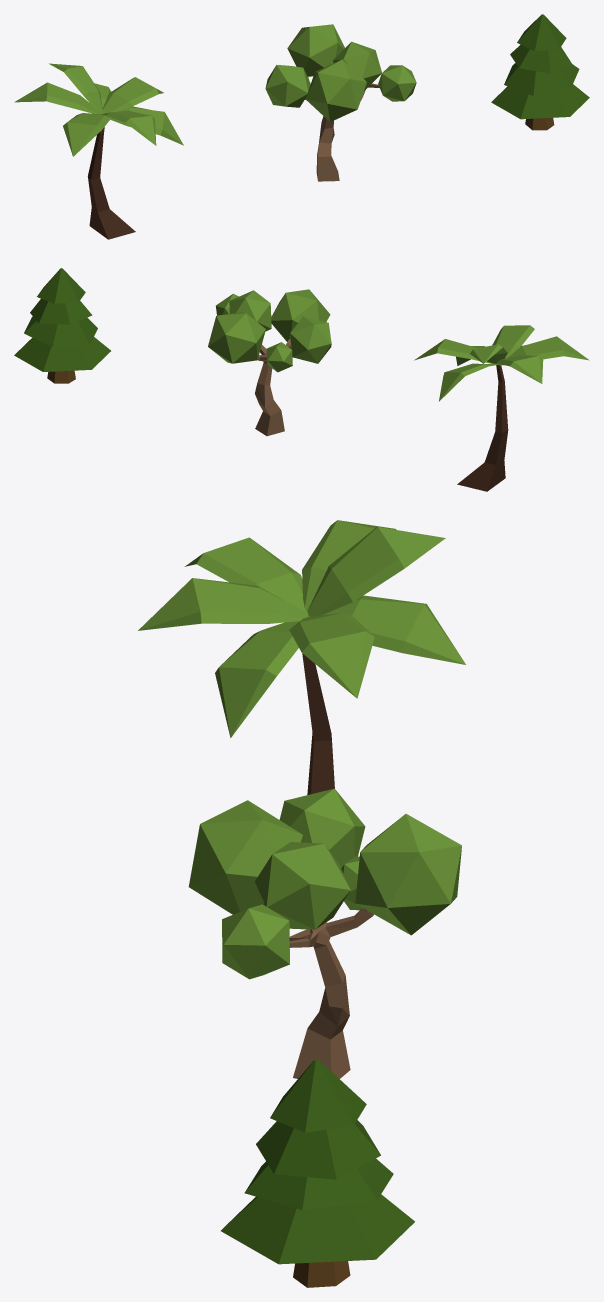
The model's file is tree.gltf.
3 renders of one model, top to bottom at view 1: azimuth 30°, elevation 25°; view 2: azimuth 150°, elevation 25°; view 3: azimuth 270°, elevation 25°, orthographic. The views are drawn at different scales.
Visible parts, largest first — view 1: tree_1, tree_3, tree_2; view 2: tree_1, tree_3, tree_2; view 3: tree_1, tree_3, tree_2.
Boxes of the visible parts, box(x1,y1,x2,y2) form: tree_1: box(265, 24, 416, 181); tree_3: box(14, 63, 183, 239); tree_2: box(491, 14, 589, 130); tree_1: box(208, 289, 331, 436); tree_3: box(414, 325, 589, 491); tree_2: box(14, 268, 110, 383); tree_1: box(188, 788, 461, 1078); tree_3: box(138, 520, 465, 794); tree_2: box(221, 1059, 414, 1287).
Bounding box in the file's own units: 12.9 × 3.56 × 3.42.
1 material, 1 textured.
